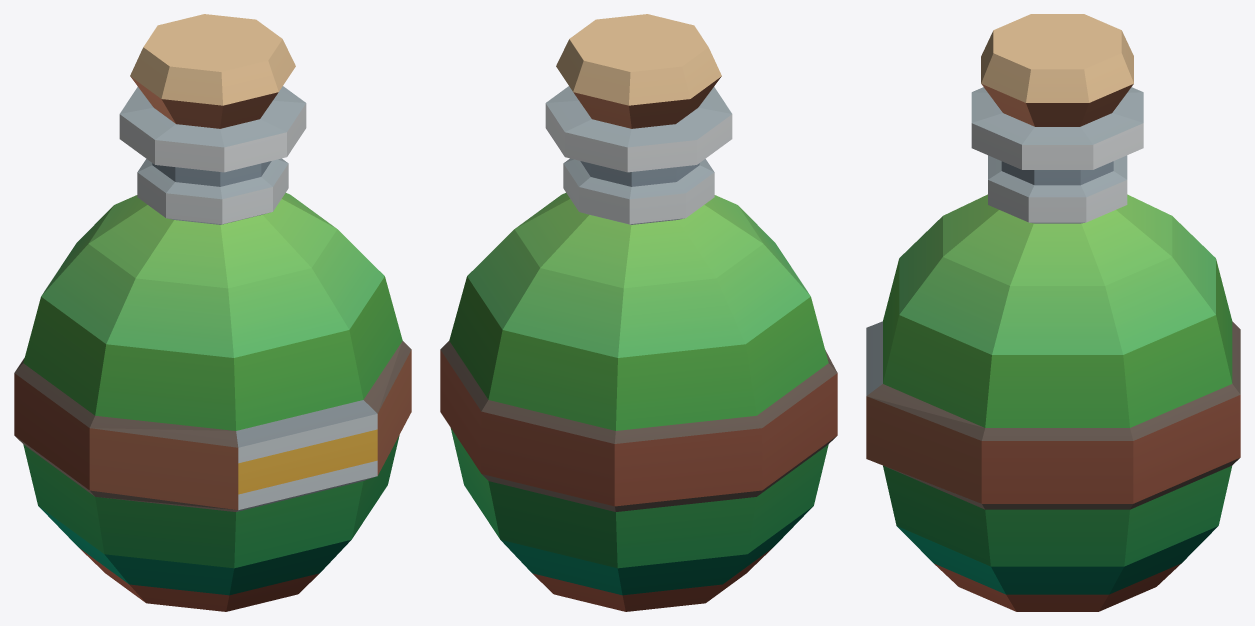
Rendered from source.glb.
The picture shows the model from 3 angles, left to right: view 1: azimuth 30°, elevation 25°; view 2: azimuth 150°, elevation 25°; view 3: azimuth 270°, elevation 25°; orthographic projection.
Parts seen in each view (by area): view 1: model; view 2: model; view 3: model.
Part boxes in pixels (box(x1,y1,x2,y2)): model: box(14, 14, 411, 611); model: box(440, 14, 837, 611); model: box(866, 14, 1240, 611).
Bounding box in the file's own units: 0.72 × 1.12 × 0.72.
Materials: 1 (1 with a texture image).
